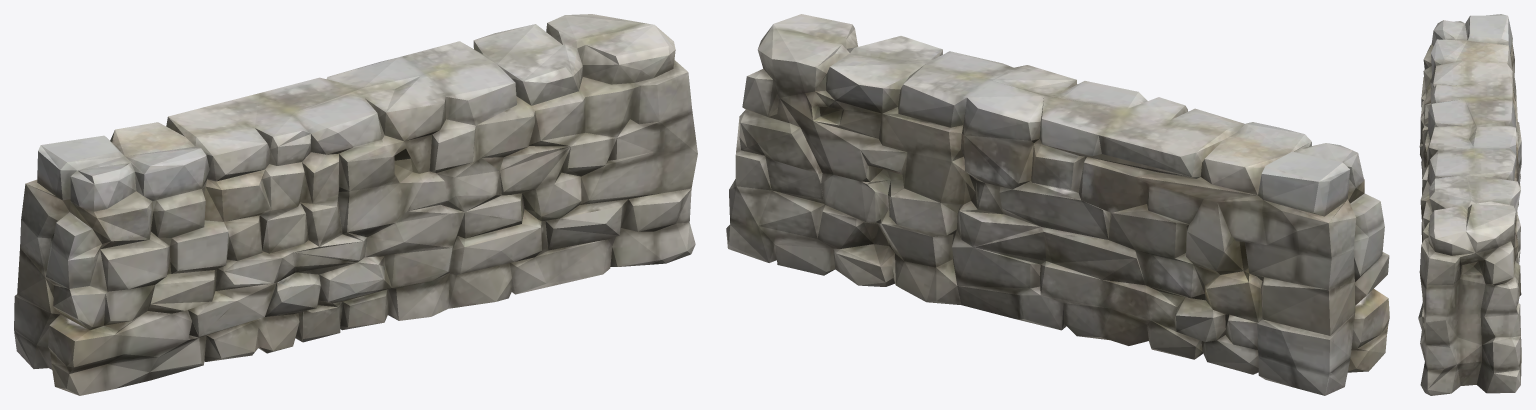
Rendered from stone_wall_1.glb.
3 views of the same model, side by side, from view 1: azimuth 30°, elevation 25°; view 2: azimuth 150°, elevation 25°; view 3: azimuth 270°, elevation 25° (orthographic). The views are drawn at different scales.
Parts seen in each view (by area): view 1: geometry_0; view 2: geometry_0; view 3: geometry_0.
Part boxes in pixels (bbox=[...]): geometry_0: bbox=[14, 14, 697, 395]; geometry_0: bbox=[726, 14, 1389, 395]; geometry_0: bbox=[1418, 14, 1521, 395].
Size of the model in its own units: 0.9942 by 0.3331 by 0.1912.
1 material, 1 textured.
